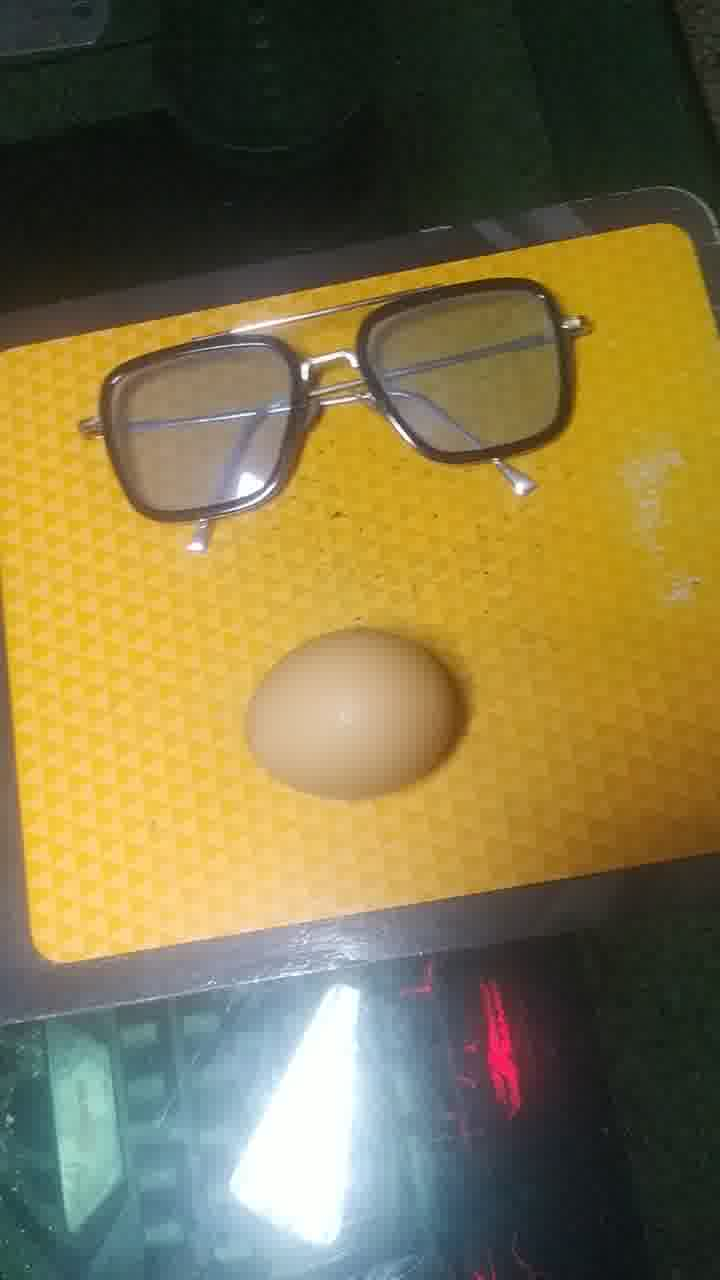egg: (237, 624, 466, 807)
sunglass: (77, 273, 600, 556)
